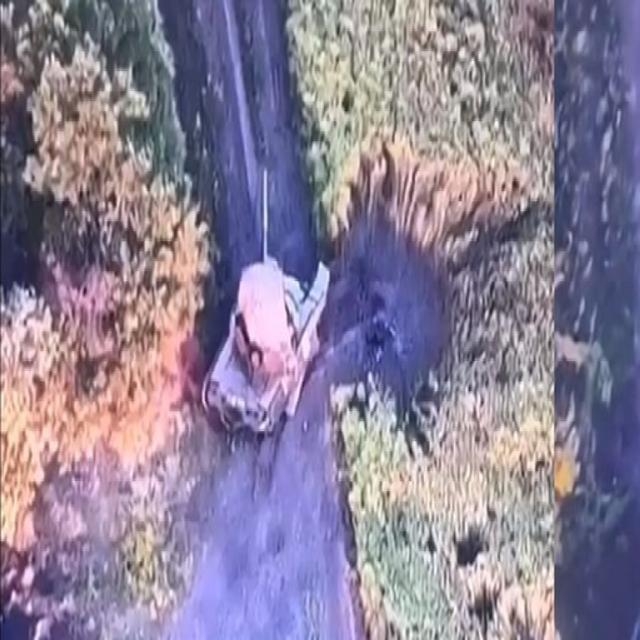TANK: (200, 162, 331, 449)
